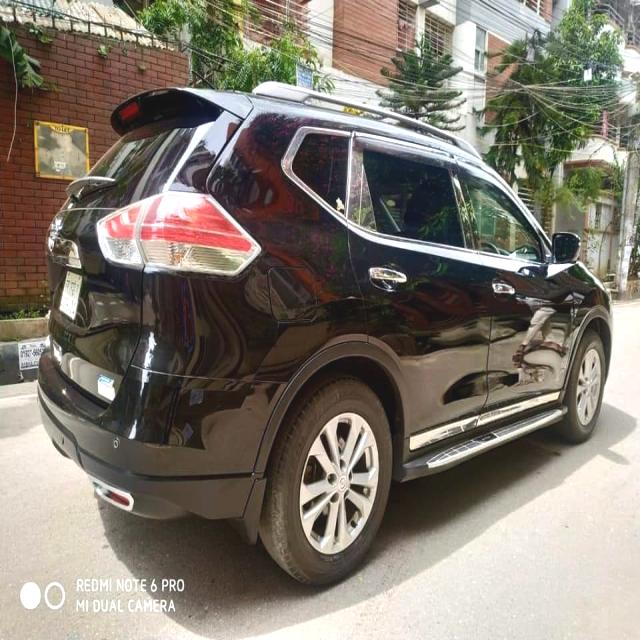black: (34, 82, 596, 500)
